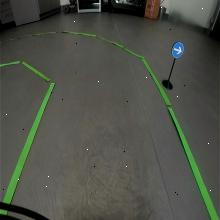right: (172, 42, 184, 58)
